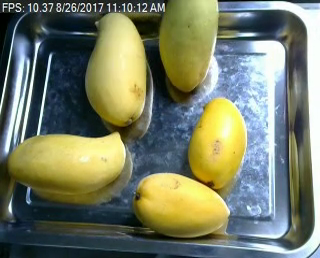Mango: (85, 10, 147, 129), (4, 131, 128, 190), (134, 169, 230, 236), (157, 0, 223, 91), (185, 95, 249, 188)
